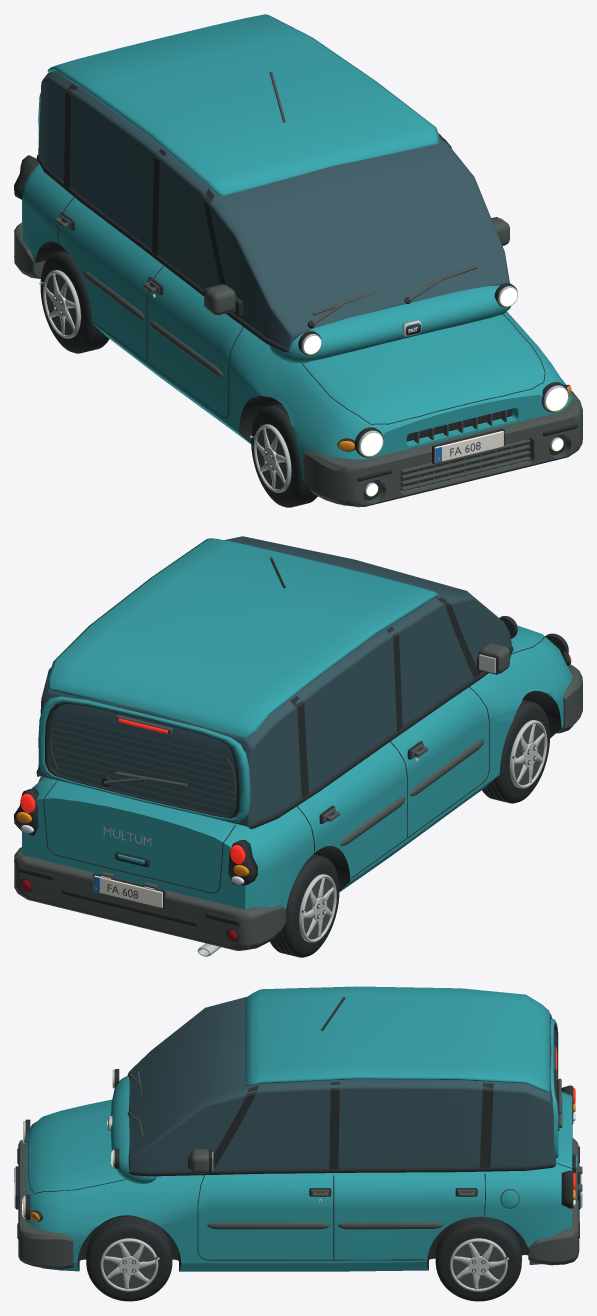
File: multum.glb
The picture shows the model from 3 angles, top to bottom: view 1: azimuth 30°, elevation 25°; view 2: azimuth 150°, elevation 25°; view 3: azimuth 270°, elevation 25°; orthographic projection. The views are drawn at different scales.
Visible parts, largest first — view 1: Panoramic glasshouse, Rounded body and short bonnet, Rounded roof skin, Wraparound front bumper, Raised cowl under the windscreen, Däck.001, Däck, Continuous lower window seal, Registration plate, Wraparound rear bumper, Lower grille backing, Rounded mirror housing (+10 smaller); view 2: Rounded body and short bonnet, Rounded roof skin, Panoramic glasshouse, Wraparound rear bumper, Painted rear window surround, Däck.001, Däck, Continuous lower window seal, Rear window rubber gasket, Rear registration plate, Wraparound front bumper, Matte window pillar.002 (+10 smaller); view 3: Rounded body and short bonnet, Panoramic glasshouse, Rounded roof skin, Däck.002, Däck.003, Wraparound front bumper, Continuous lower window seal.001, Wraparound rear bumper, Raised cowl under the windscreen, Wheel hub barrel.002, Wheel hub barrel.003, Matte window pillar.005 (+10 smaller).
Part boxes in pixels (x1=…): Panoramic glasshouse: x1=38, y1=70, x2=509, y2=349; Rounded body and short bonnet: x1=22, y1=163, x2=572, y2=505; Rounded roof skin: x1=47, y1=14, x2=439, y2=196; Wraparound front bumper: x1=303, y1=391, x2=582, y2=507; Raised cowl under the windscreen: x1=269, y1=285, x2=510, y2=362; Däck.001: x1=40, y1=250, x2=109, y2=353; Däck: x1=251, y1=403, x2=317, y2=507; Continuous lower window seal: x1=36, y1=154, x2=289, y2=352; Registration plate: x1=434, y1=431, x2=503, y2=463; Wraparound rear bumper: x1=14, y1=222, x2=46, y2=278; Lower grille backing: x1=400, y1=438, x2=528, y2=490; Rounded mirror housing: x1=205, y1=285, x2=235, y2=315; Rounded body and short bonnet: x1=22, y1=625, x2=572, y2=909; Rounded roof skin: x1=47, y1=538, x2=438, y2=738; Panoramic glasshouse: x1=38, y1=536, x2=511, y2=826; Wraparound rear bumper: x1=14, y1=847, x2=285, y2=950; Painted rear window surround: x1=38, y1=696, x2=250, y2=822; Däck.001: x1=270, y1=854, x2=339, y2=957; Däck: x1=482, y1=699, x2=549, y2=803; Continuous lower window seal: x1=249, y1=646, x2=513, y2=828; Rear window rubber gasket: x1=45, y1=702, x2=239, y2=818; Rear registration plate: x1=93, y1=875, x2=162, y2=907; Wraparound front bumper: x1=556, y1=664, x2=582, y2=733; Matte window pillar.002: x1=290, y1=695, x2=308, y2=797; Rounded body and short bonnet: x1=26, y1=1091, x2=572, y2=1271; Panoramic glasshouse: x1=128, y1=997, x2=555, y2=1171; Rounded roof skin: x1=245, y1=986, x2=549, y2=1092; Däck.002: x1=86, y1=1216, x2=172, y2=1301; Däck.003: x1=435, y1=1216, x2=521, y2=1301; Wraparound front bumper: x1=18, y1=1139, x2=73, y2=1269; Continuous lower window seal.001: x1=129, y1=1163, x2=555, y2=1176; Wraparound rear bumper: x1=528, y1=1138, x2=578, y2=1265; Raised cowl under the windscreen: x1=110, y1=1076, x2=156, y2=1183; Wheel hub barrel.002: x1=103, y1=1241, x2=155, y2=1288; Wheel hub barrel.003: x1=452, y1=1241, x2=504, y2=1288; Matte window pillar.005: x1=479, y1=1083, x2=493, y2=1167.
Bounding box in the file's own units: 2.11 × 2.08 × 4.2.
